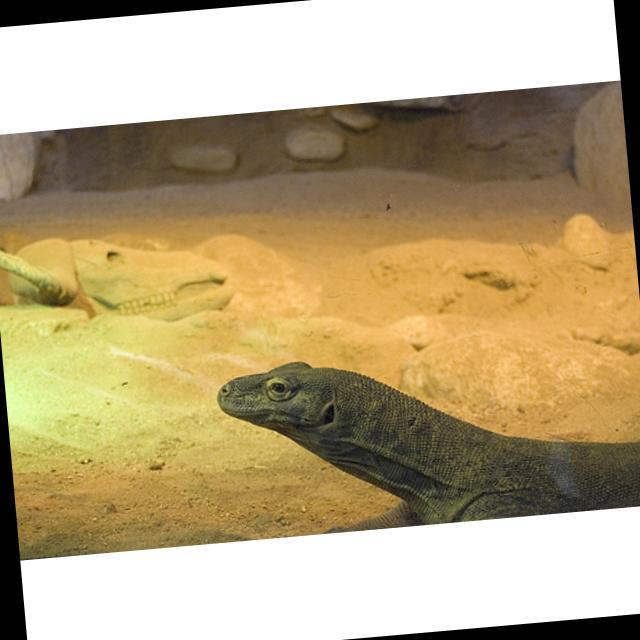KomodoDragon: (211, 330, 640, 539)
